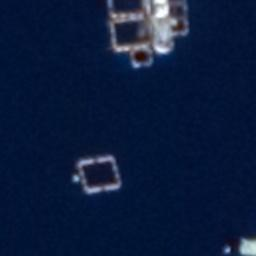square_solid: (73, 151, 126, 197), (107, 14, 153, 53)
